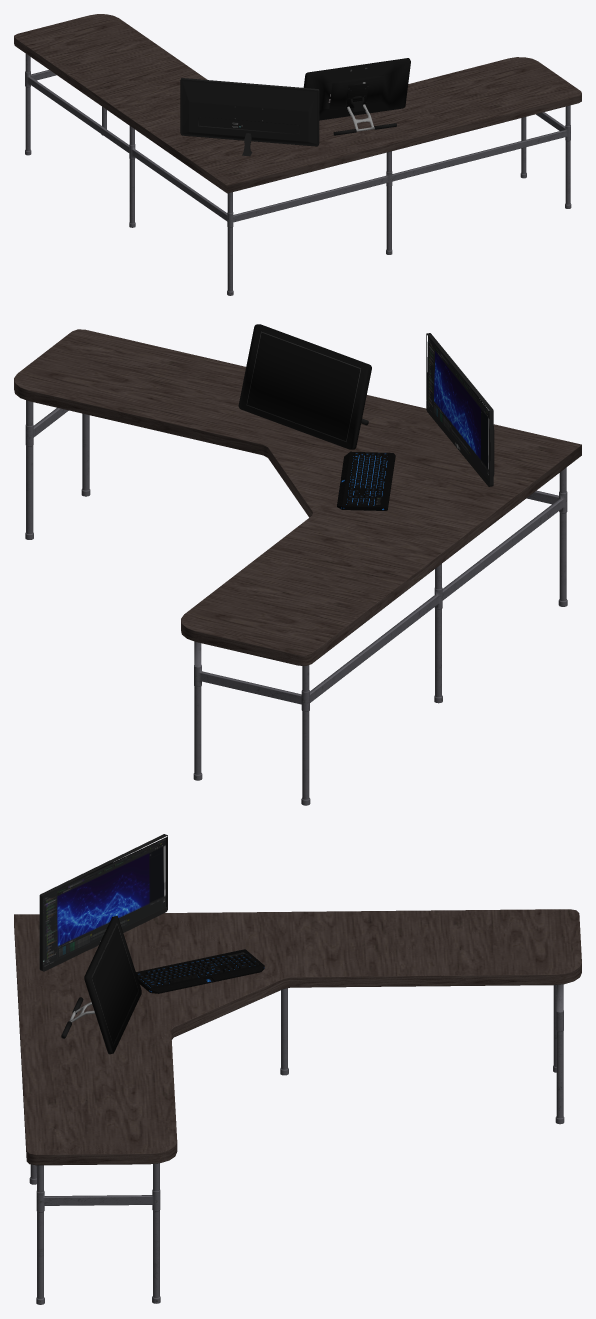
3 renders of one model, top to bottom at view 1: azimuth 30°, elevation 25°; view 2: azimuth 150°, elevation 25°; view 3: azimuth 270°, elevation 25°, orthographic. The views are drawn at different scales.
Parts seen in each view (by area): view 1: Desk_M_Desk_Bottom_0, Monitor_Wide_M_Monitor_Wide_0, 1_M_HUION_KAMVAS_GT_221_PRO_0; view 2: Desk_M_Desk_Bottom_0, 1_M_HUION_KAMVAS_GT_221_PRO_0, Plane, Keyboard_M_Keyboard_0, Monitor_Wide_M_Monitor_Wide_0; view 3: Desk_M_Desk_Bottom_0, Plane, 1_M_HUION_KAMVAS_GT_221_PRO_0, Keyboard_M_Keyboard_0, Monitor_Wide_M_Monitor_Wide_0.
Part boxes in pixels (box(x1,y1,x2,y2)): Desk_M_Desk_Bottom_0: box(14, 14, 581, 295); Monitor_Wide_M_Monitor_Wide_0: box(180, 78, 319, 156); 1_M_HUION_KAMVAS_GT_221_PRO_0: box(303, 58, 410, 135); Desk_M_Desk_Bottom_0: box(14, 329, 581, 805); 1_M_HUION_KAMVAS_GT_221_PRO_0: box(238, 324, 371, 449); Plane: box(426, 336, 490, 481); Keyboard_M_Keyboard_0: box(337, 451, 395, 510); Monitor_Wide_M_Monitor_Wide_0: box(426, 333, 494, 486); Desk_M_Desk_Bottom_0: box(14, 909, 581, 1304); Plane: box(43, 837, 167, 966); 1_M_HUION_KAMVAS_GT_221_PRO_0: box(61, 916, 141, 1054); Keyboard_M_Keyboard_0: box(136, 949, 264, 993); Monitor_Wide_M_Monitor_Wide_0: box(39, 834, 167, 971).
Size of the model in its own units: 219 by 101 by 214.
Materials: 6 (6 with a texture image).
